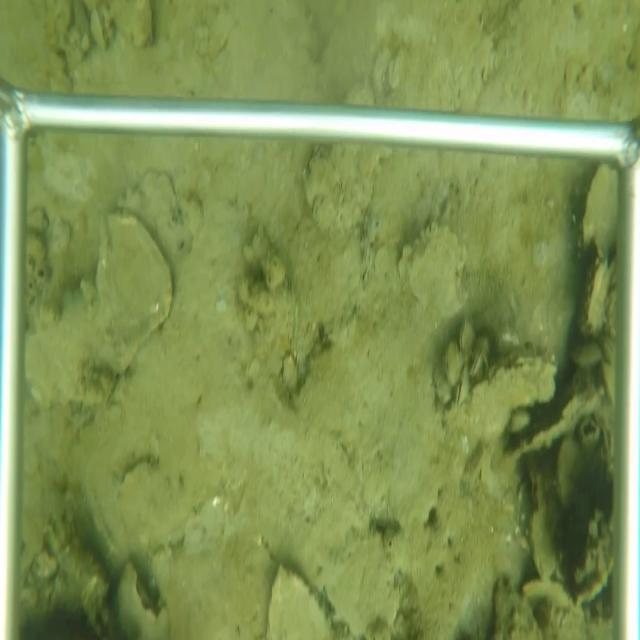Oyster-Closed: (24, 206, 177, 412), (443, 343, 558, 444), (502, 384, 606, 461), (525, 468, 558, 578), (580, 255, 612, 335), (445, 341, 465, 391), (89, 5, 109, 54), (467, 341, 485, 382), (459, 320, 475, 355)
Oyster-Indeterminate: (298, 145, 385, 238), (396, 221, 470, 318), (264, 560, 341, 639), (577, 161, 617, 263), (107, 4, 158, 48)
